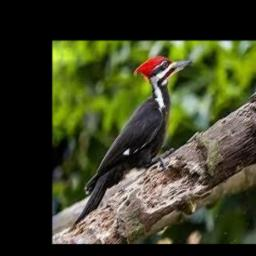Woodpecker: (71, 55, 194, 227)
